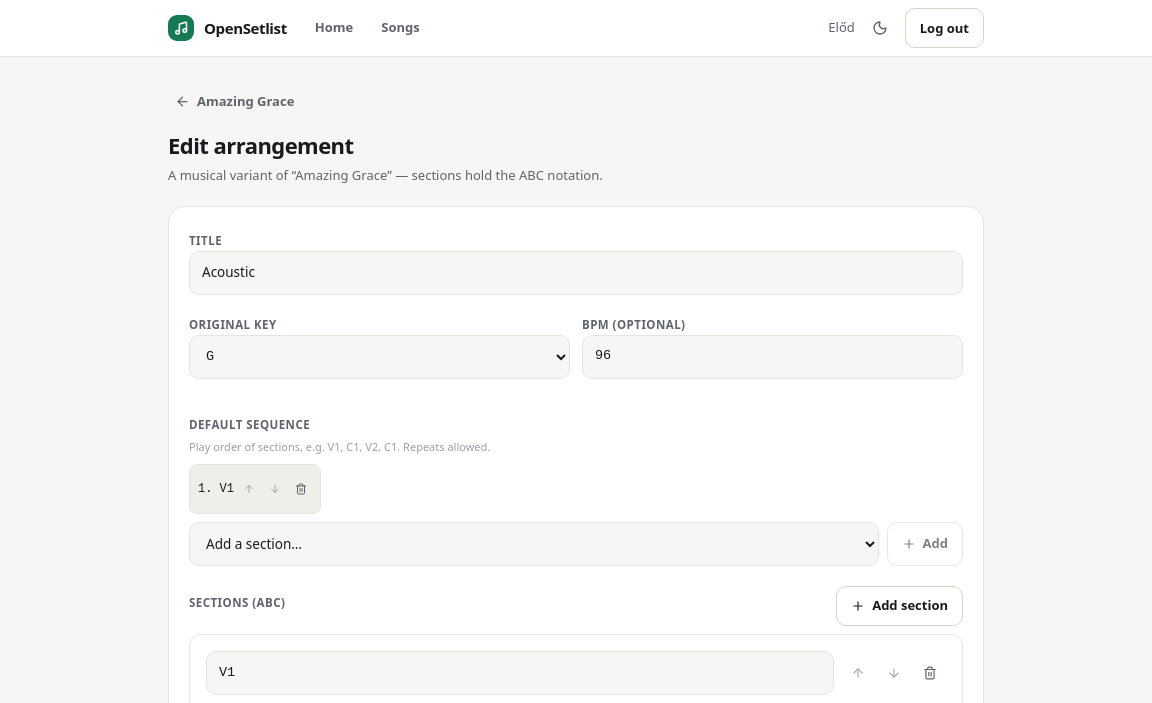
Test: ArrangementEditorPage › prefills in edit mode and shows the conflict banner on a stale 409
The image size is (1152, 703).
Replace the text in the field showing "Acoustic" with "Acoustic (slow)": (576, 272) [189, 250, 963, 294]
(page scrolled)
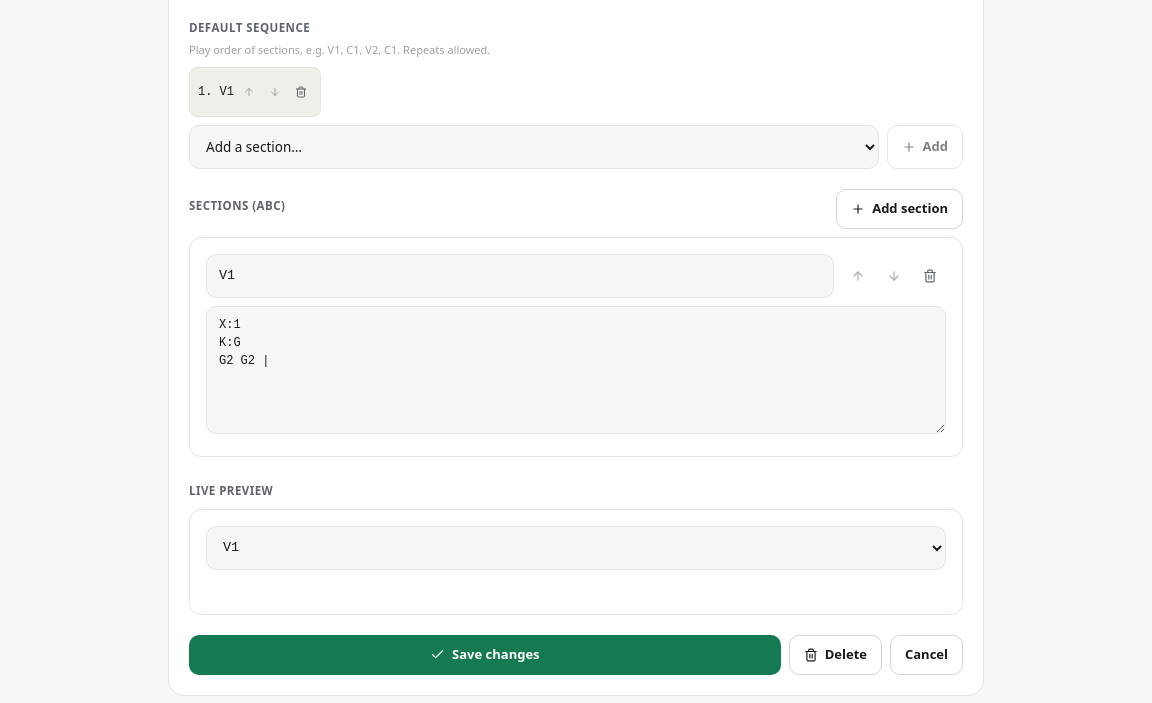
Click the button "Save changes": (485, 655) [189, 635, 781, 675]
(page scrolled)
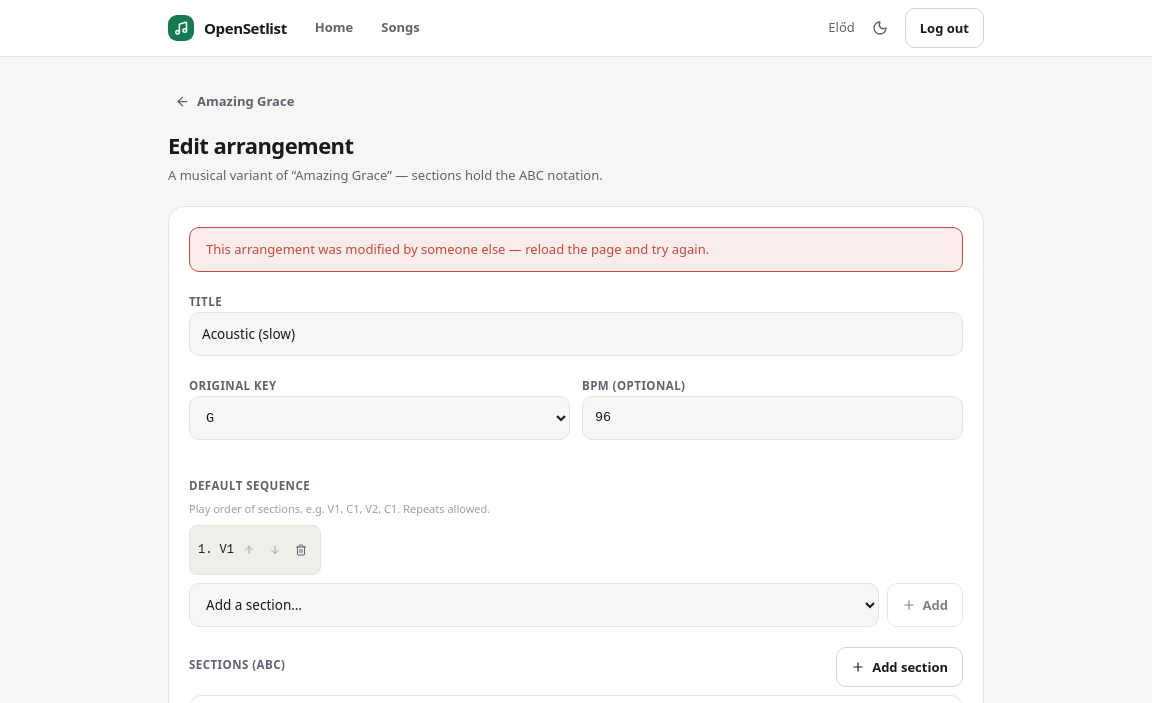
Check: the message shows "modified by someone else", box [206, 240, 709, 258]
